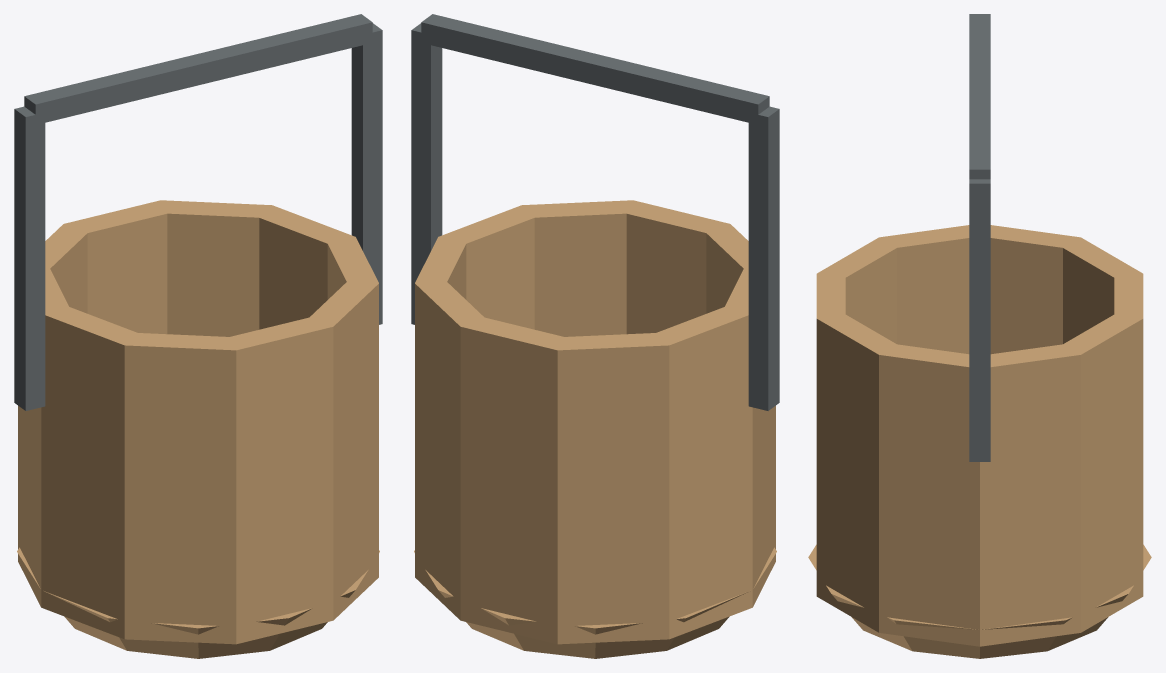
The model's file is bucket.glb.
3 views of the same model, side by side, from view 1: azimuth 30°, elevation 25°; view 2: azimuth 150°, elevation 25°; view 3: azimuth 270°, elevation 25° (orthographic). The views are drawn at different scales.
Parts seen in each view (by area): view 1: bucket; view 2: bucket; view 3: bucket.
Part boxes in pixels (left/top/right/bottom): bucket: left=14, top=14, right=382, bottom=658; bucket: left=411, top=14, right=779, bottom=658; bucket: left=808, top=14, right=1151, bottom=658.
Size of the model in its own units: 0.635 by 0.9175 by 0.56.
